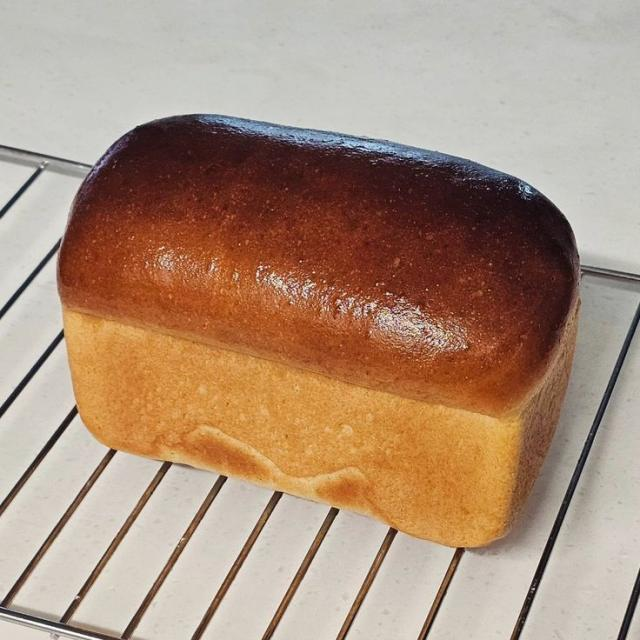bread: (59, 116, 579, 546)
